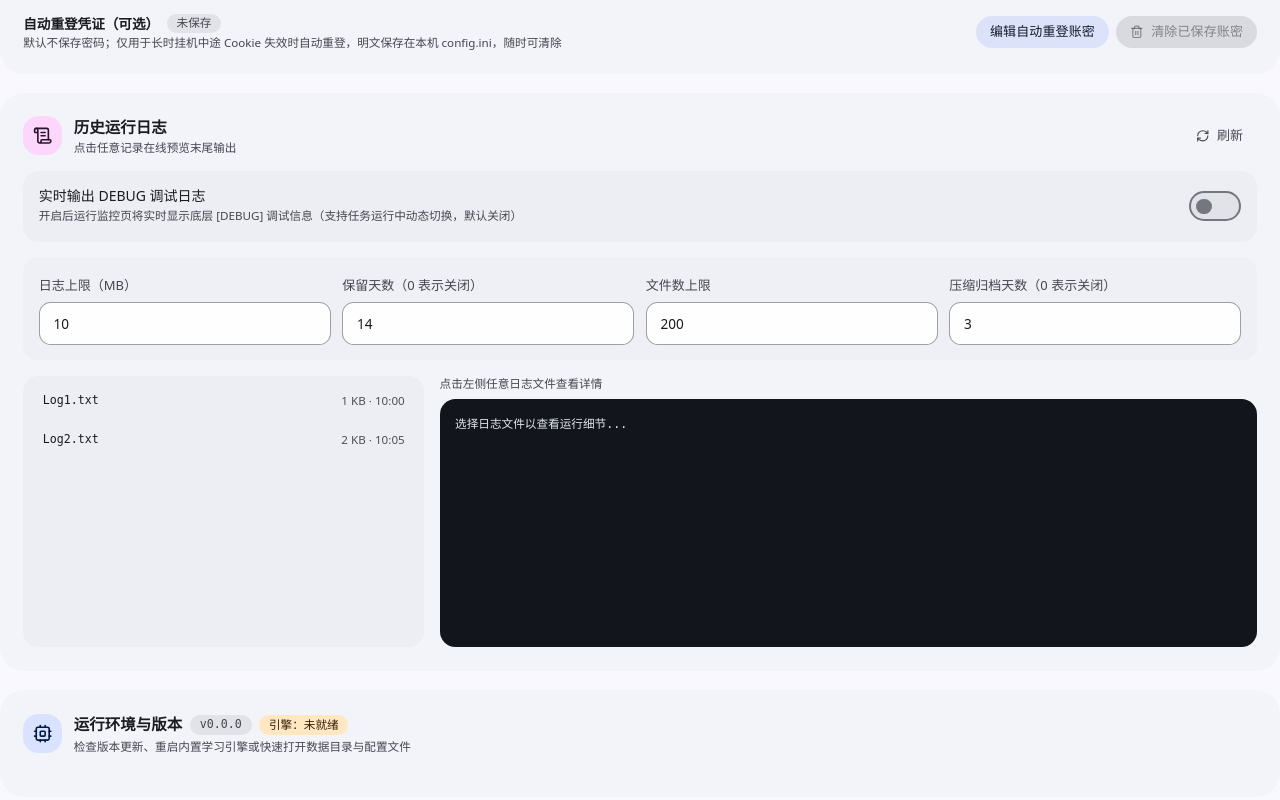
it: Phase 1 (T1.8) frontend fixes › ignores stale slow log read responses when user selects a newer log file
(page scrolled)
Click the text "Log1.txt": (71, 401) x1=43 y1=393 x2=99 y2=409
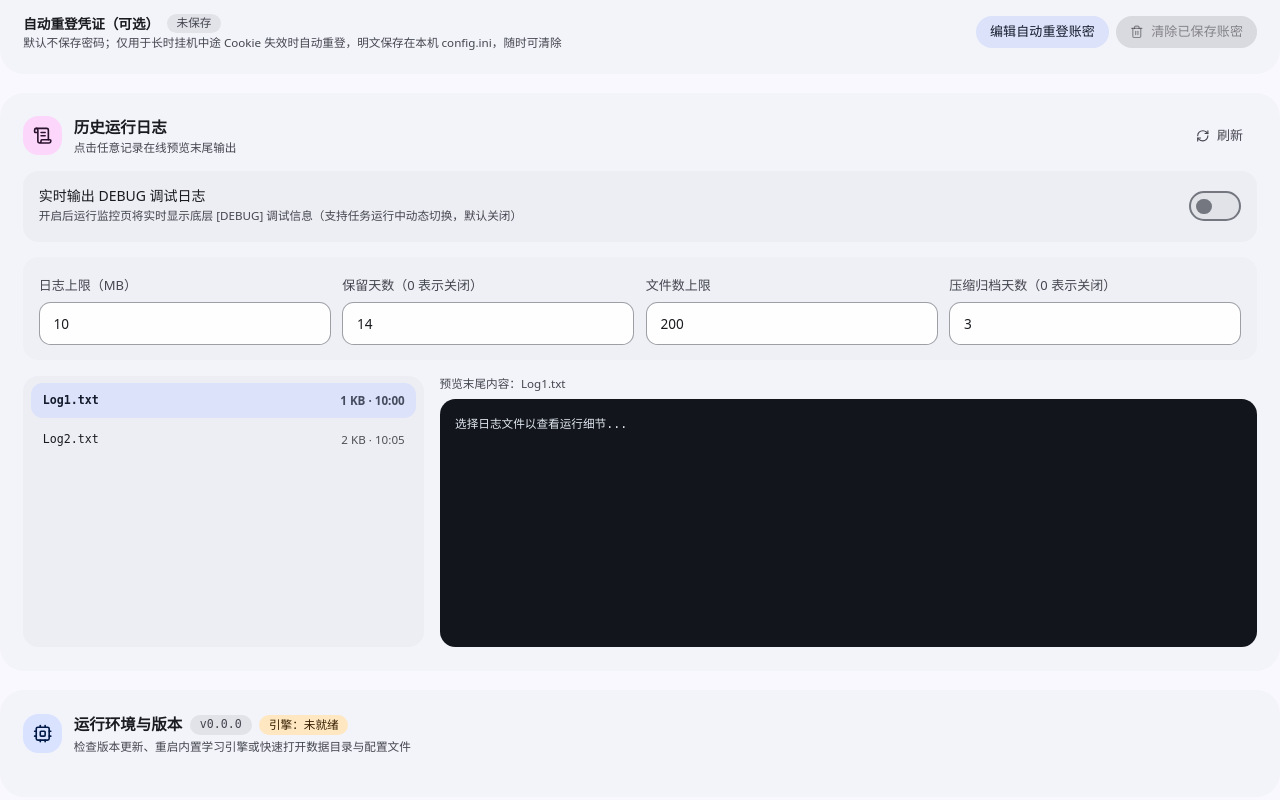
Click the text "Log2.txt": (71, 440) x1=43 y1=432 x2=99 y2=448
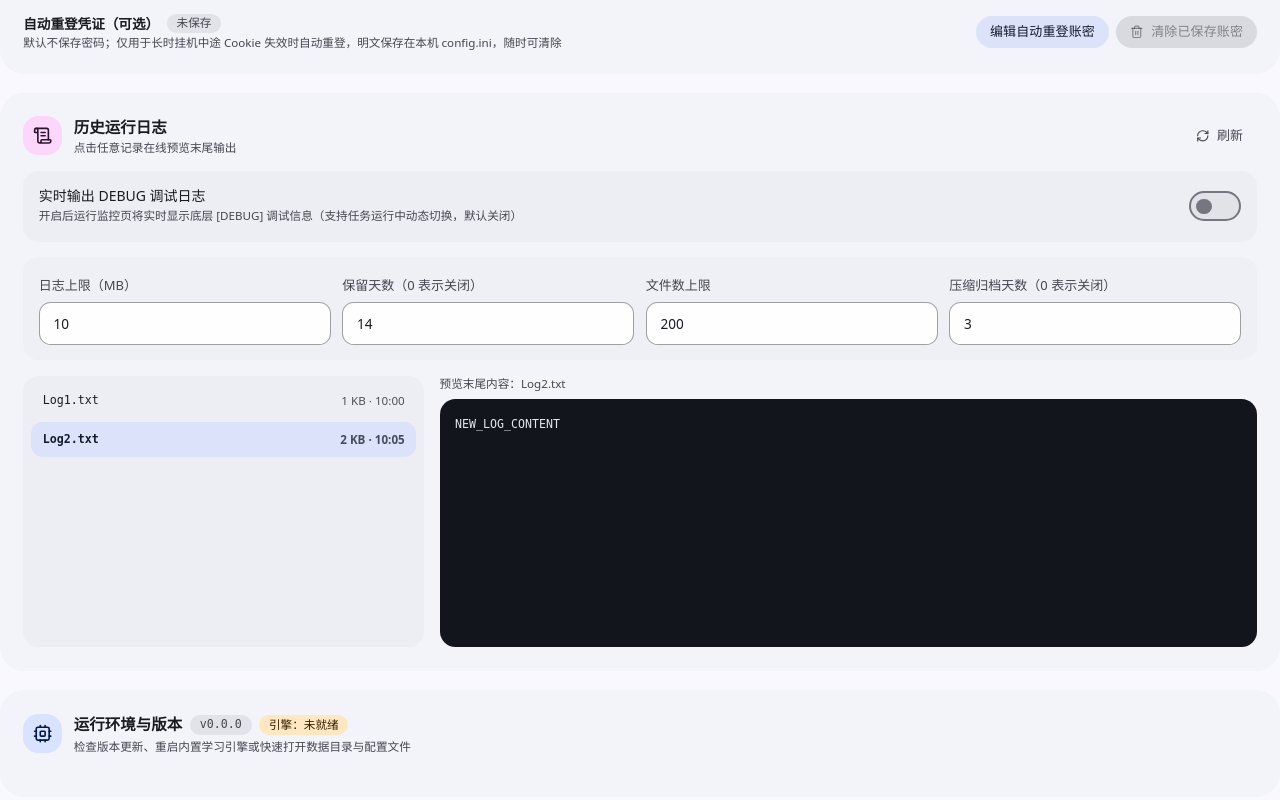
Now the text "NEW_LOG_CONTENT" is shown, box x1=440 y1=399 x2=1257 y2=648
